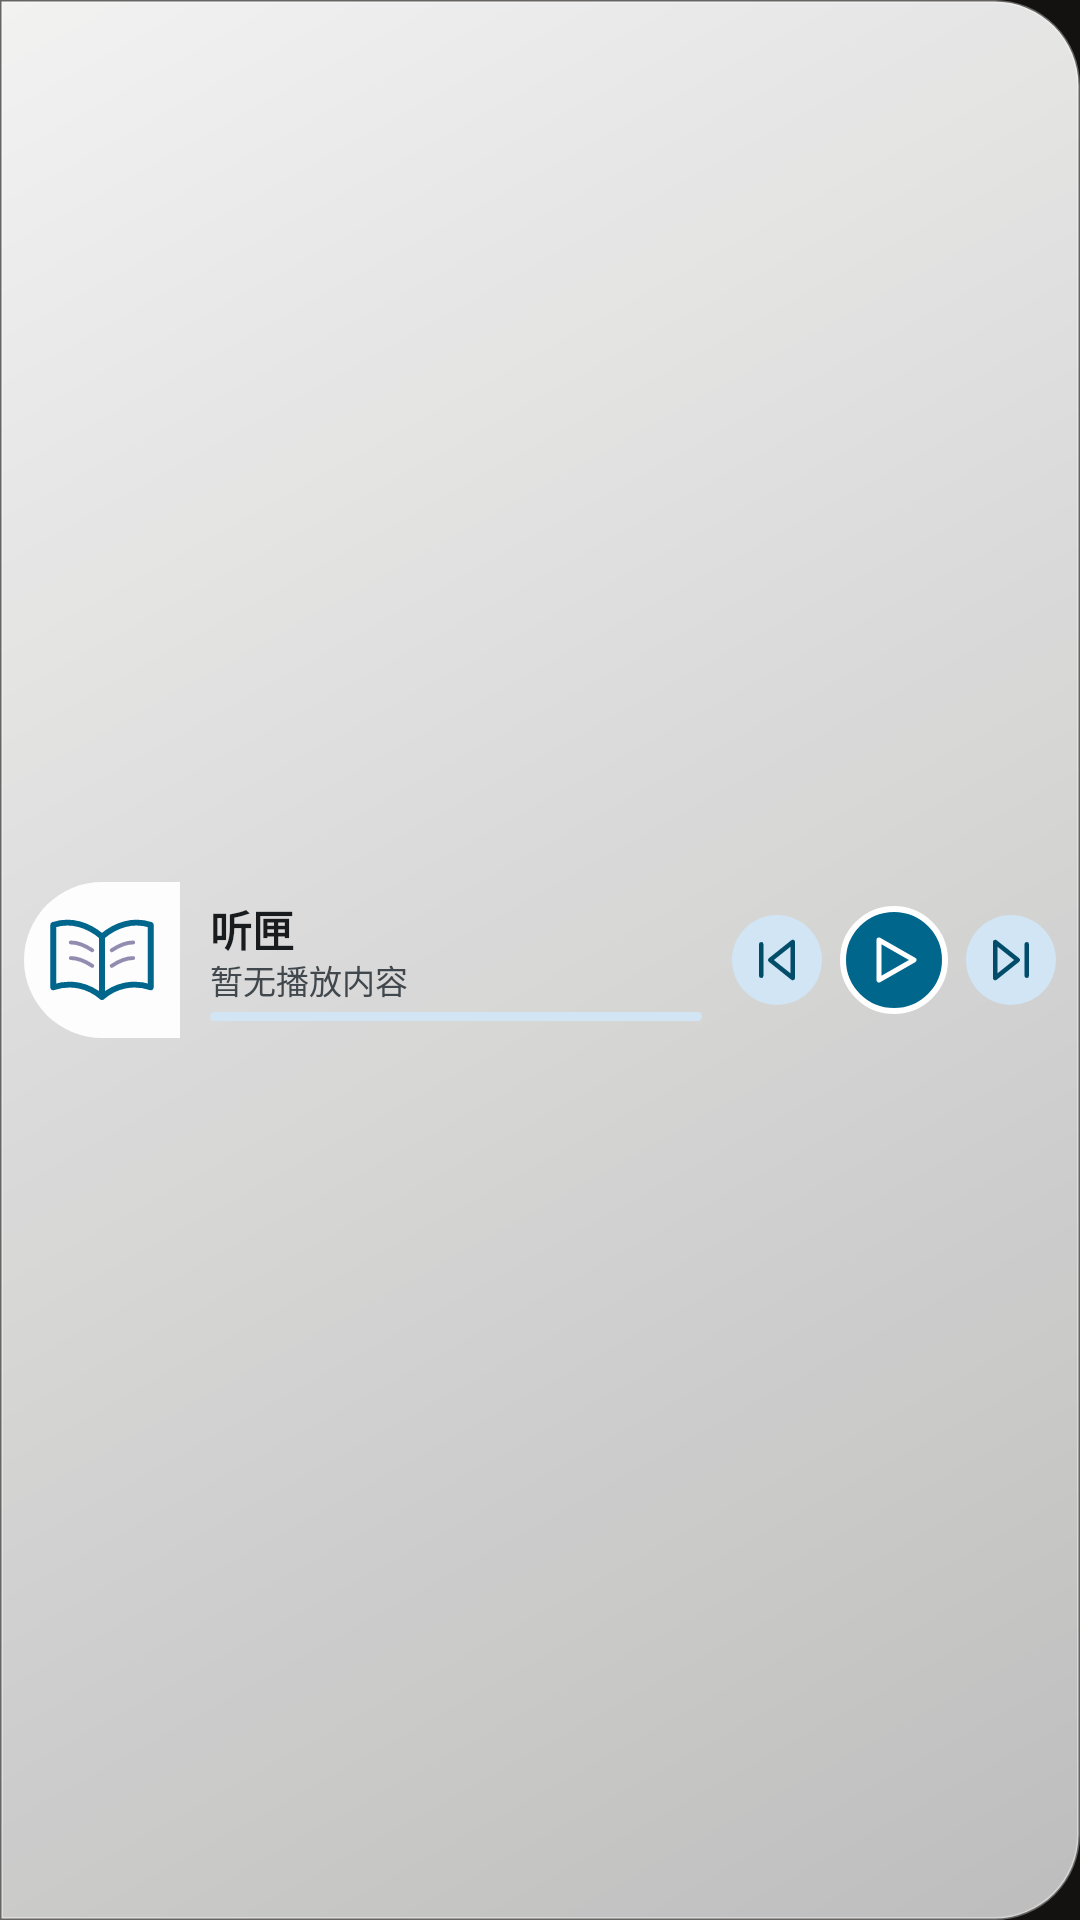

Where to tap for icons on this 1080*1920 app screen, as point (x, y):
上一章: point (777, 960)
下一章: point (1011, 960)
